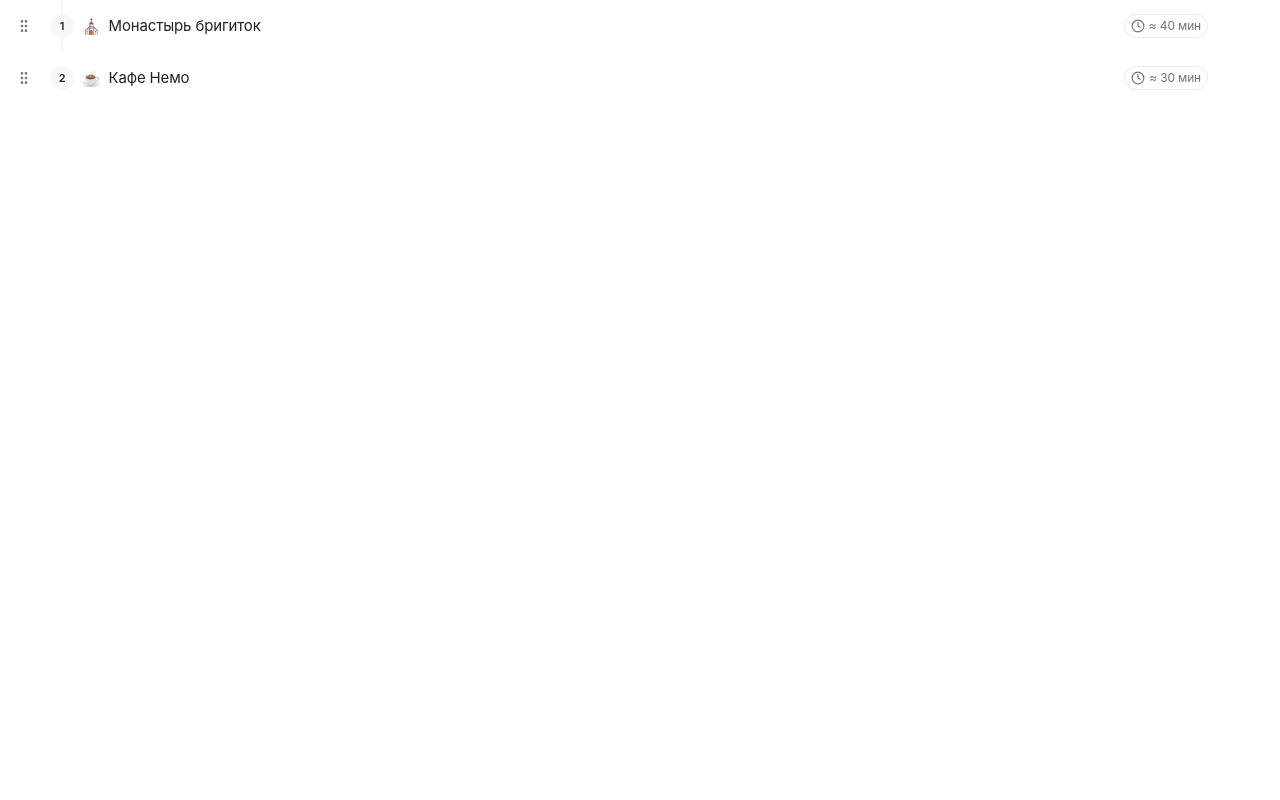
Test: WaypointList — the tourist sets their own visit time › hands the estimate back on reset
The width and height of the screenshot is (1280, 800).
Step 1. Click the button with test id "visit-time-chip" → x=1166, y=26, box [1124,14,1208,38]
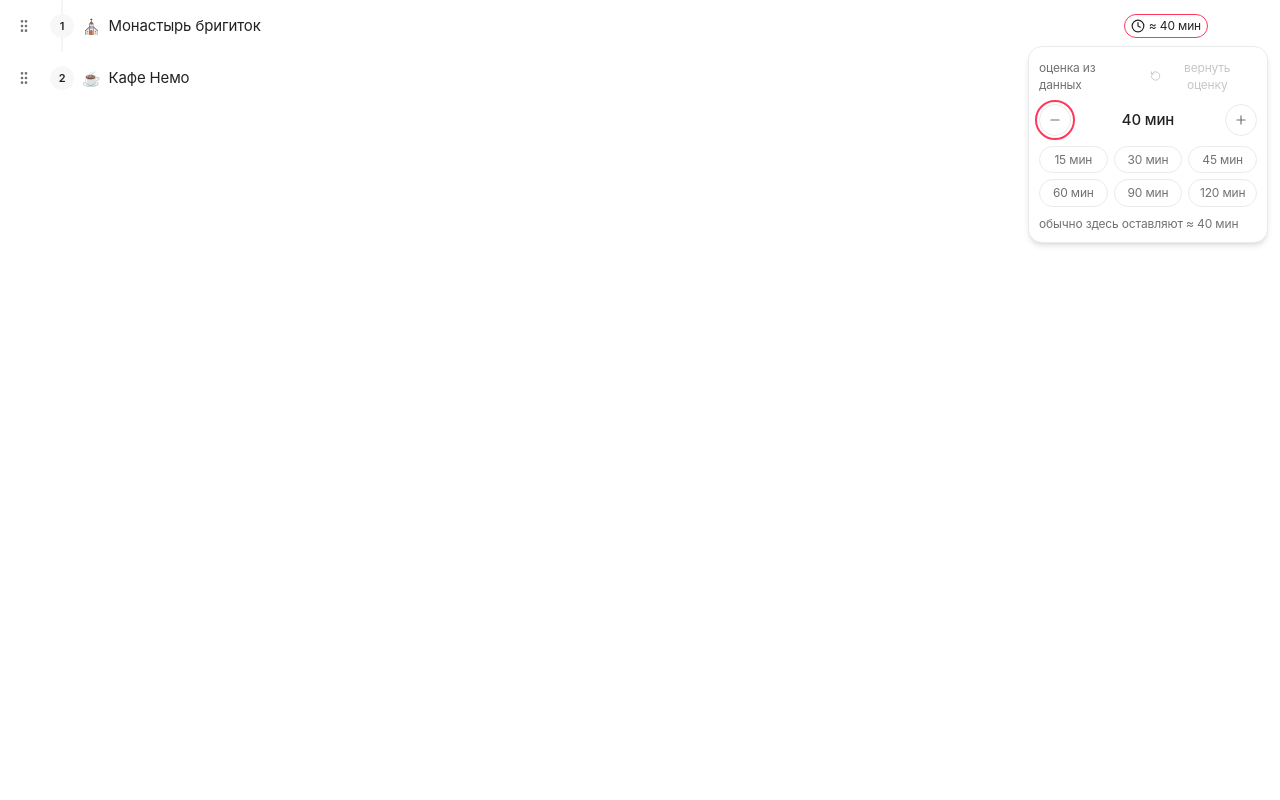
Step 2. Click the button with test id "visit-time-plus" → x=1241, y=120, box [1225,104,1257,136]
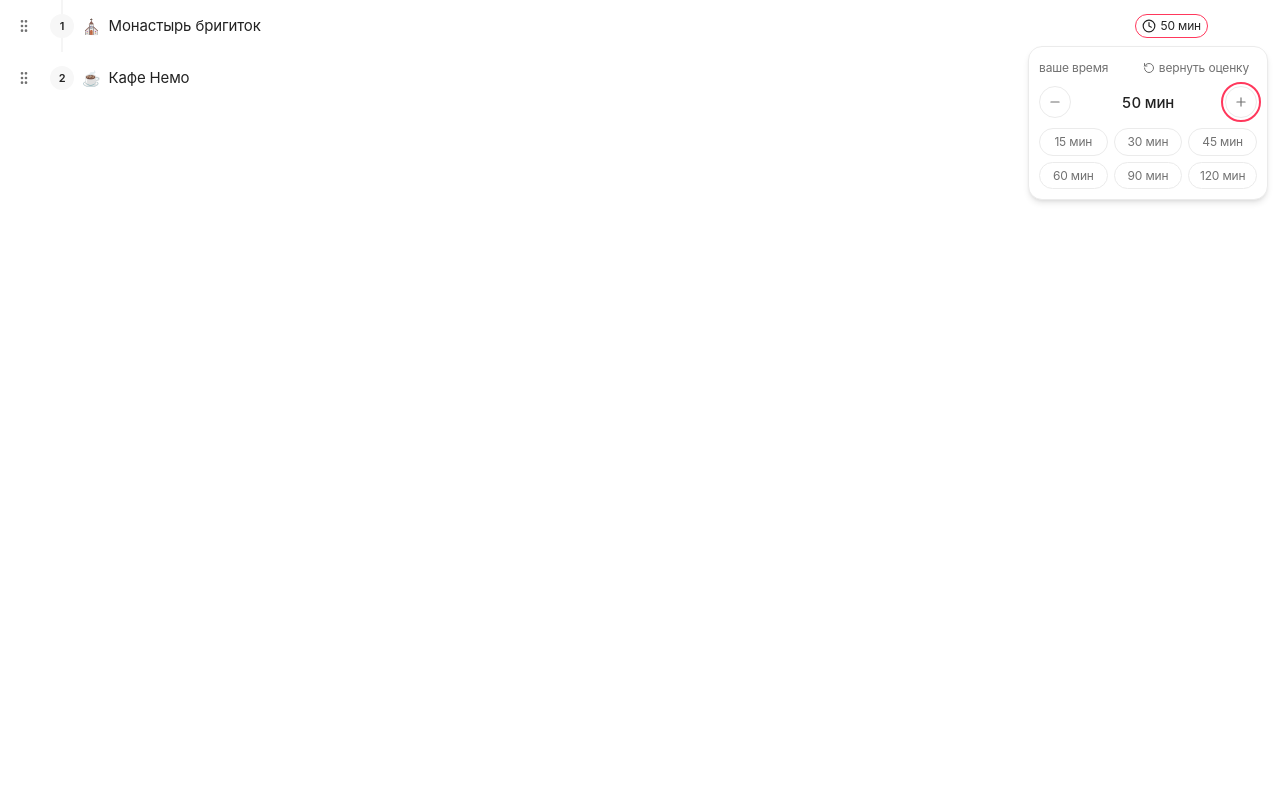
Expected: the button with test id "visit-time-chip" reads "50 мин", [1135,14,1208,38]
Step 3. Click the button with test id "visit-time-reset" → x=1196, y=68, box [1135,57,1257,78]
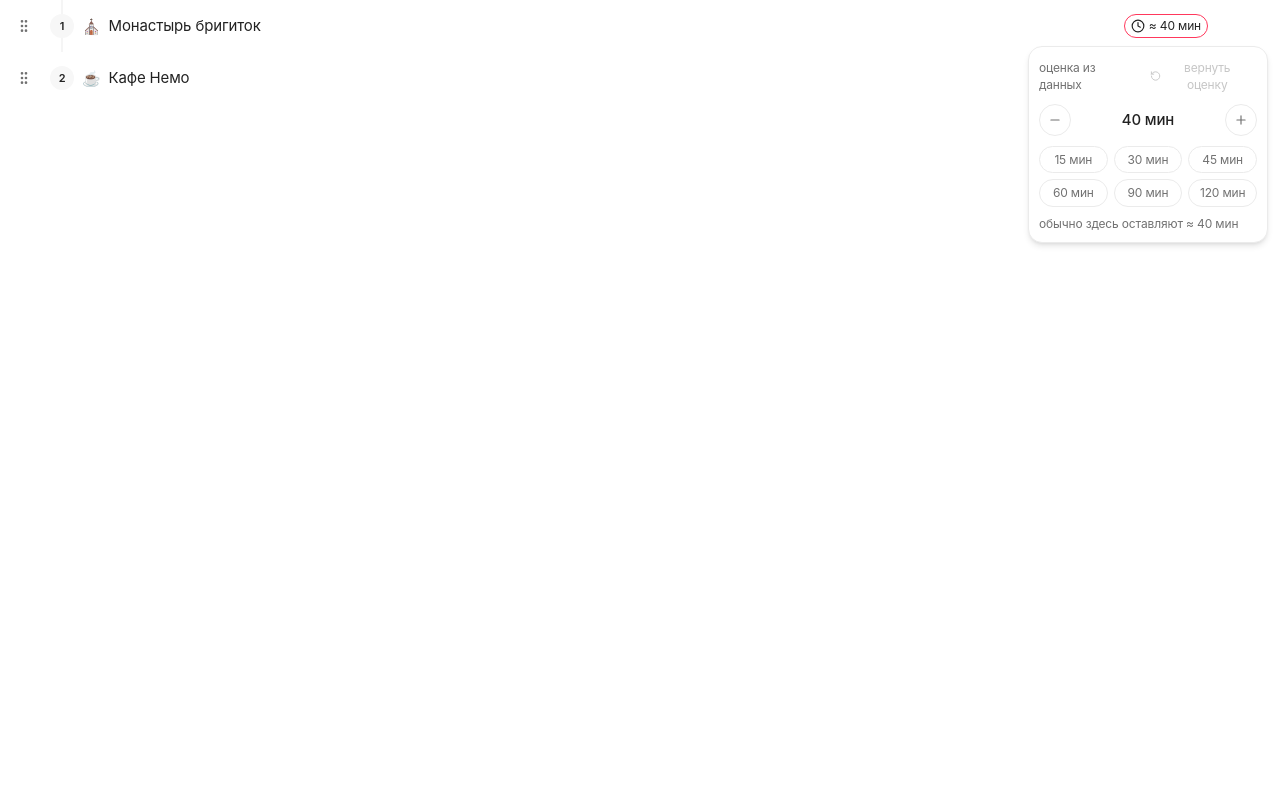
Expected: the button with test id "visit-time-chip" reads "≈ 40 мин", [1124,14,1208,38]
